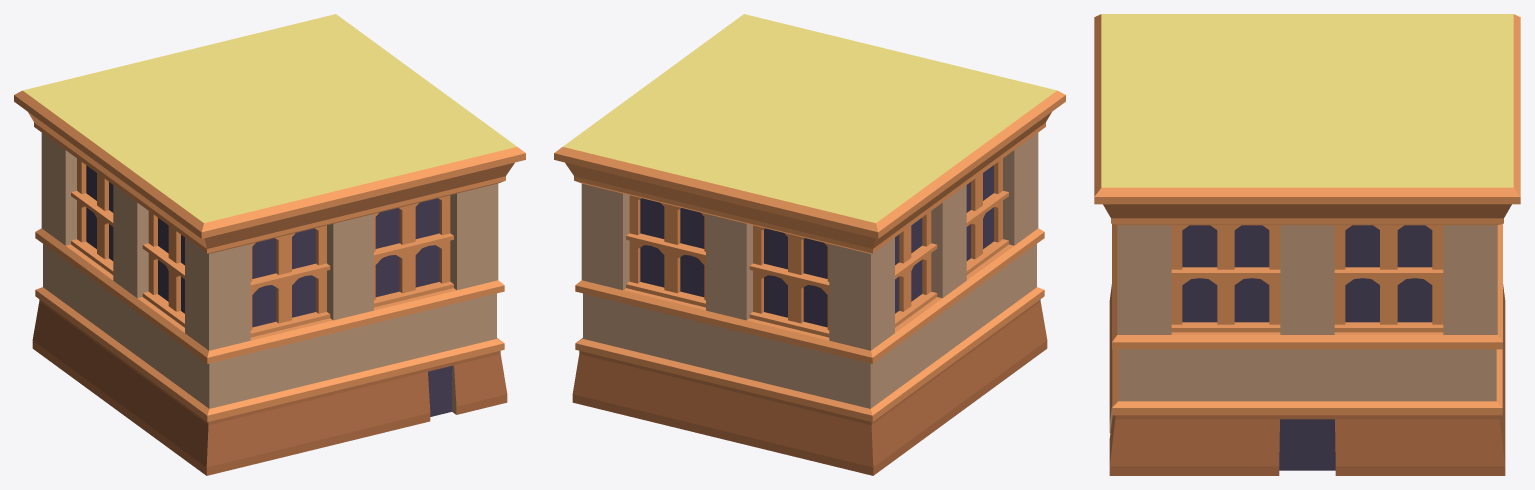
File: building square y.fbx
3 renders of one model, left to right at view 1: azimuth 30°, elevation 25°; view 2: azimuth 150°, elevation 25°; view 3: azimuth 270°, elevation 25°, orthographic. The views are drawn at different scales.
Visible parts, largest first — view 1: pCube1, pCube2, pCube3; view 2: pCube1, pCube2, pCube3; view 3: pCube1, pCube3.
Part boxes in pixels (left/top/right/bottom): pCube1: left=14, top=14, right=525, bottom=475; pCube2: left=250, top=195, right=453, bottom=337; pCube3: left=71, top=158, right=184, bottom=327; pCube1: left=554, top=14, right=1065, bottom=475; pCube2: left=626, top=195, right=829, bottom=337; pCube3: left=895, top=158, right=1008, bottom=327; pCube1: left=1094, top=14, right=1520, bottom=475; pCube3: left=1171, top=225, right=1443, bottom=332.
Size of the model in its own units: 16.05 by 12.15 by 16.09.
